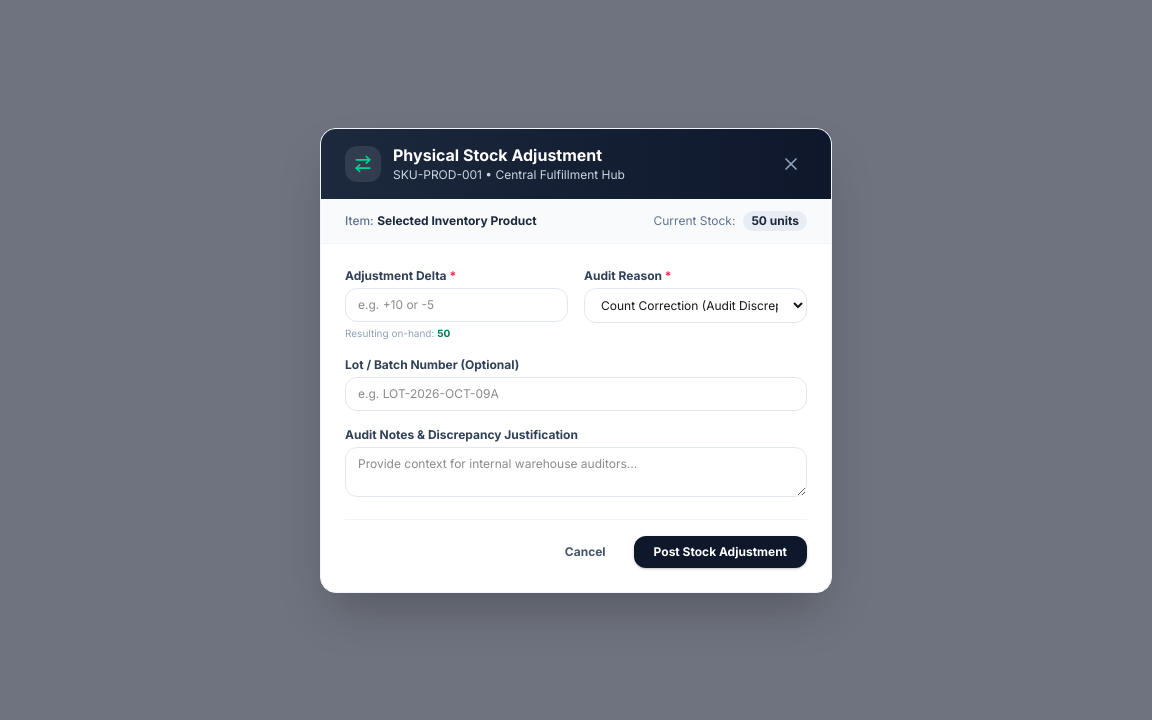
Test case: InventoryAdjustmentModal Component & Form Validation Audit › prevents negative deduction that exceeds on-hand stock
Type "-75" into the number field with placeholder "e.g. +10 or -5" at x=456, y=304, box 345,288 -> 568,322
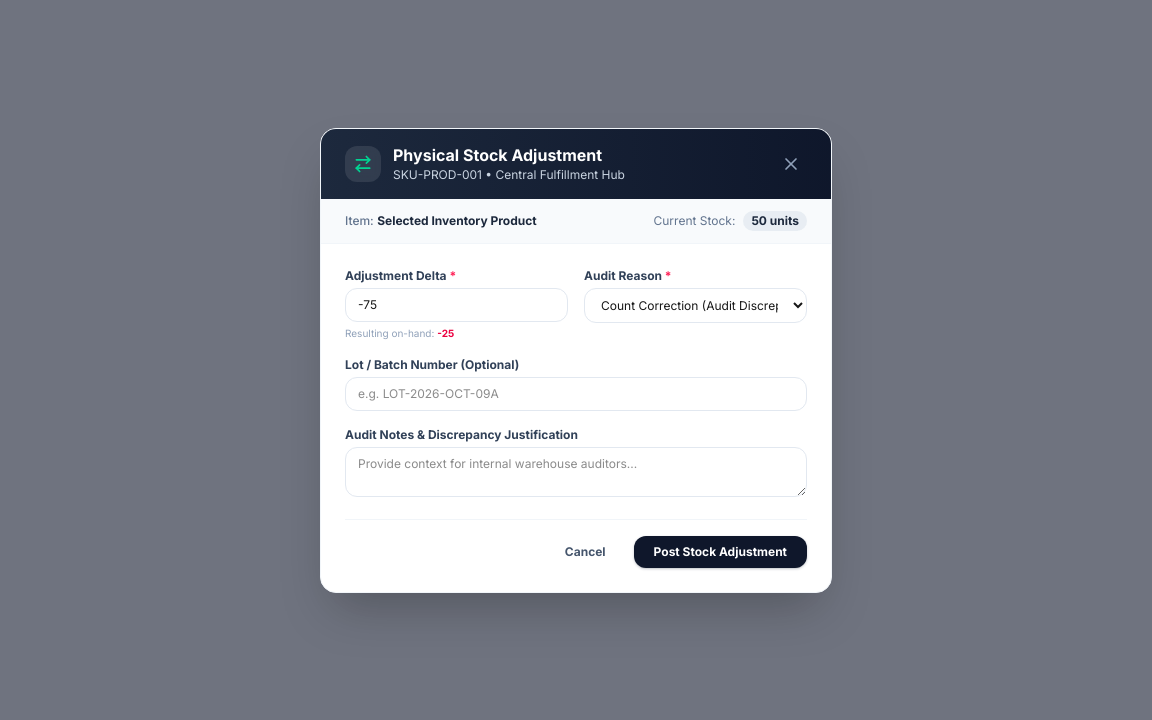
Submit the text "Post Stock Adjustment", box 321,244 -> 831,592
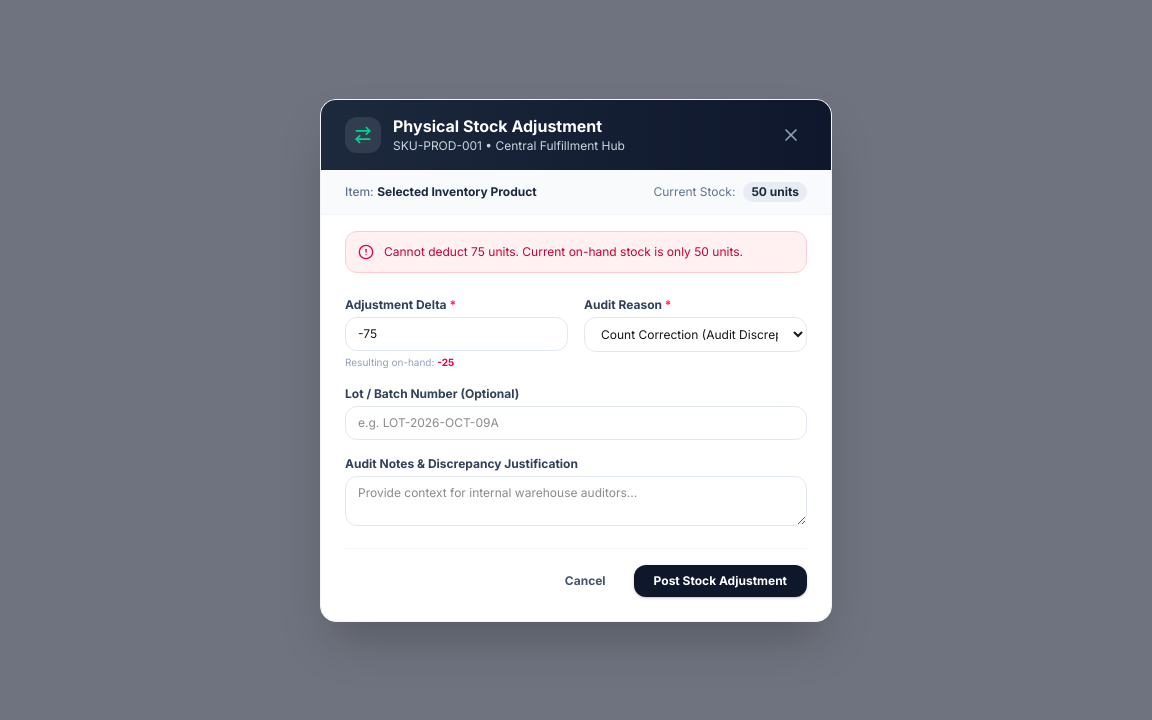
Result: the text "Cannot deduct 75 units. Current on-hand stock is only 50 units." is shown at 384,244 -> 743,260
